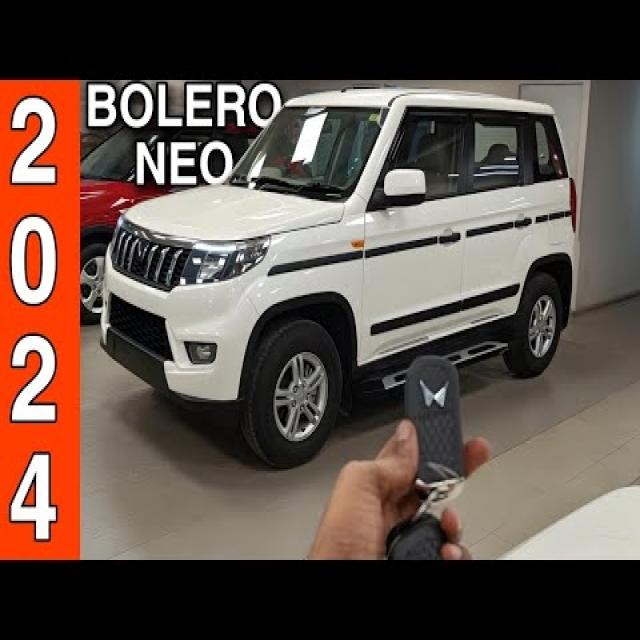light_vehicle: (102, 100, 360, 453)
